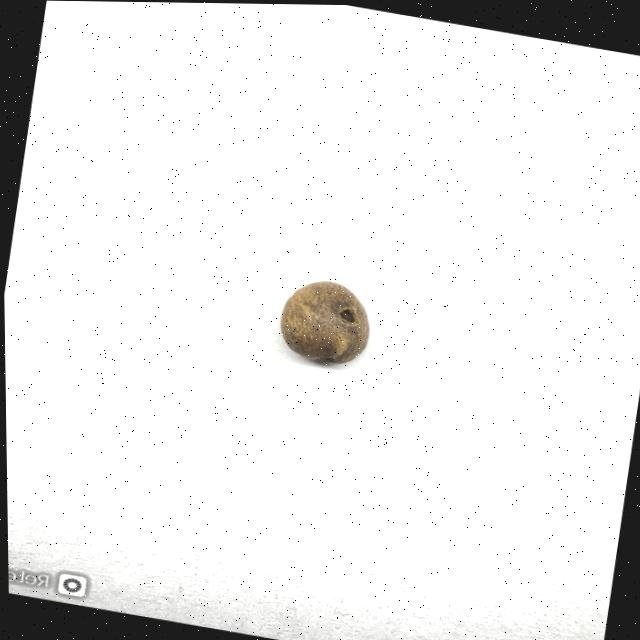Insect damage: (274, 272, 377, 370)
